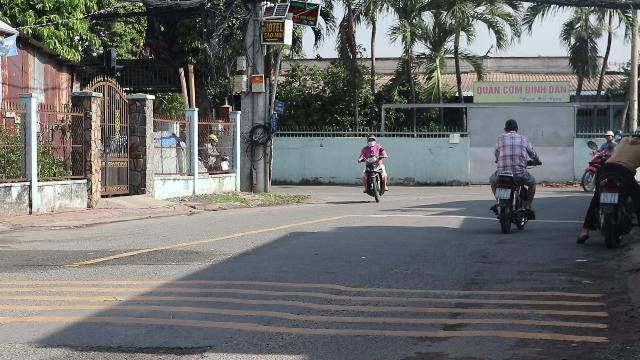licenseplate: (600, 192, 618, 202), (496, 188, 510, 198)
motorcyclist: (580, 127, 640, 245), (487, 117, 538, 231)
nohelmet: (502, 118, 518, 133)
